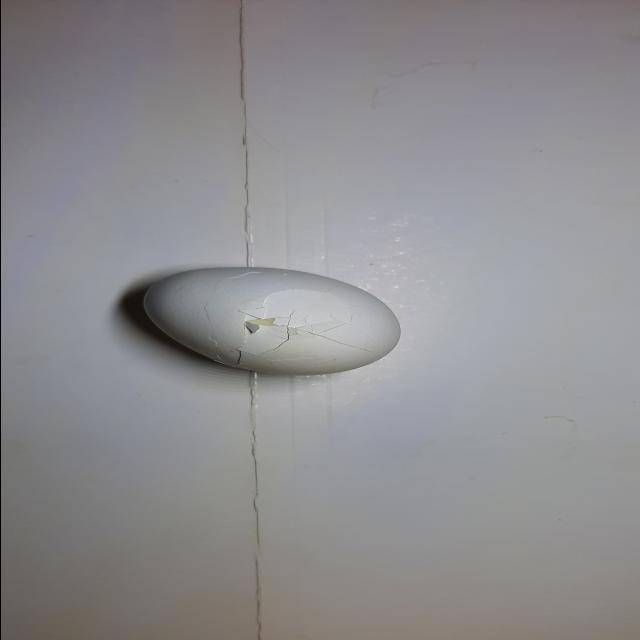egg shell: (136, 265, 404, 379)
